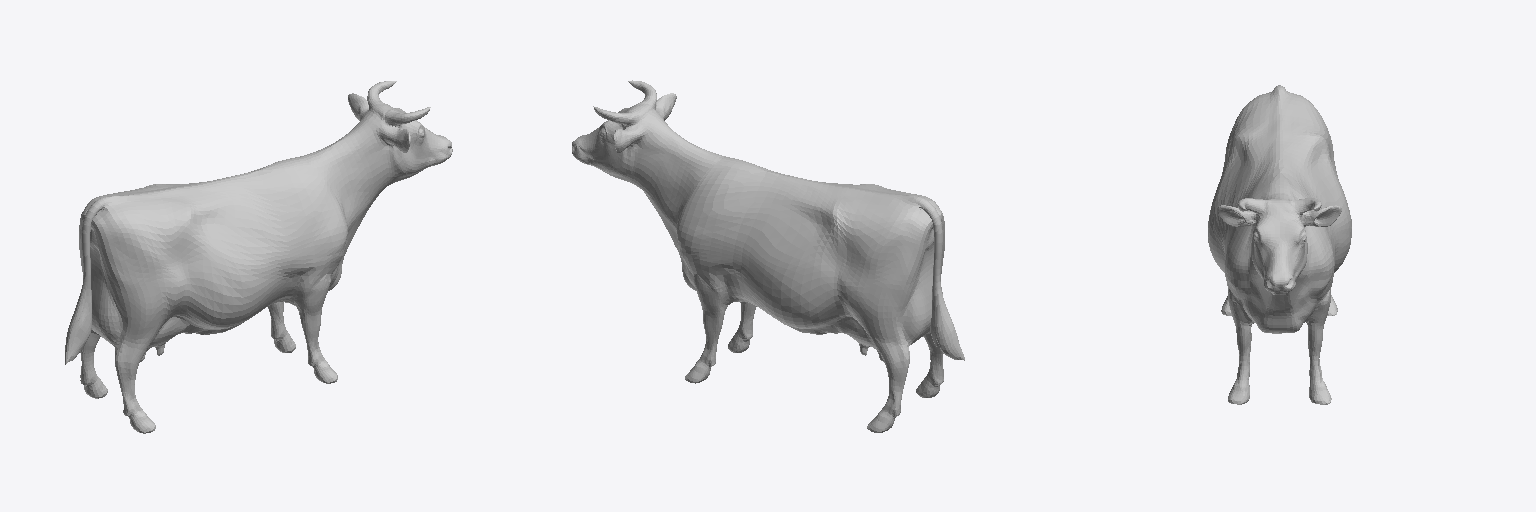
Rendered from cow.obj.
3 renders of one model, left to right at view 1: azimuth 30°, elevation 25°; view 2: azimuth 150°, elevation 25°; view 3: azimuth 270°, elevation 25°, orthographic.
Visible parts, largest first — view 1: cow; view 2: cow; view 3: cow.
Boxes of the visible parts, x1=… form: cow: x1=65, y1=81, x2=452, y2=433; cow: x1=572, y1=80, x2=964, y2=432; cow: x1=1208, y1=85, x2=1351, y2=404.
Size of the model in its own units: 2 by 1.23 by 0.6458.